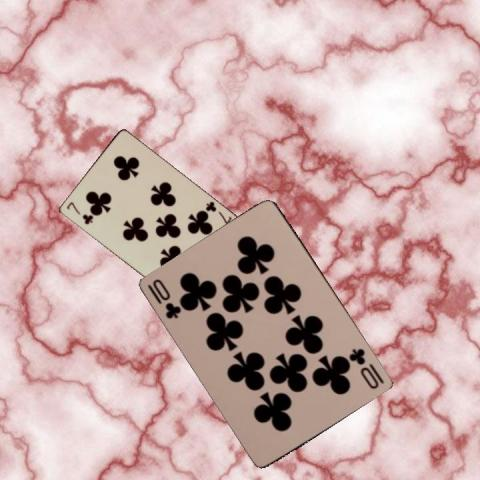10c: (346, 345, 386, 391), (145, 276, 183, 321)
7c: (63, 199, 94, 226), (202, 199, 233, 225)
